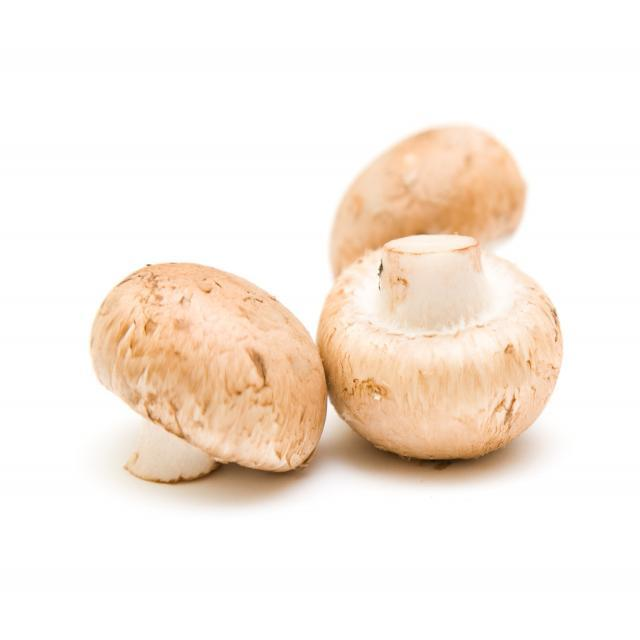Agaricus bisporus: (317, 241, 562, 467), (90, 260, 327, 482), (328, 124, 533, 276)
